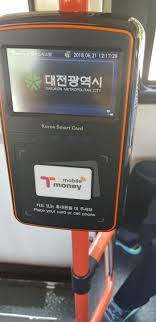terminal: (1, 9, 148, 239)
